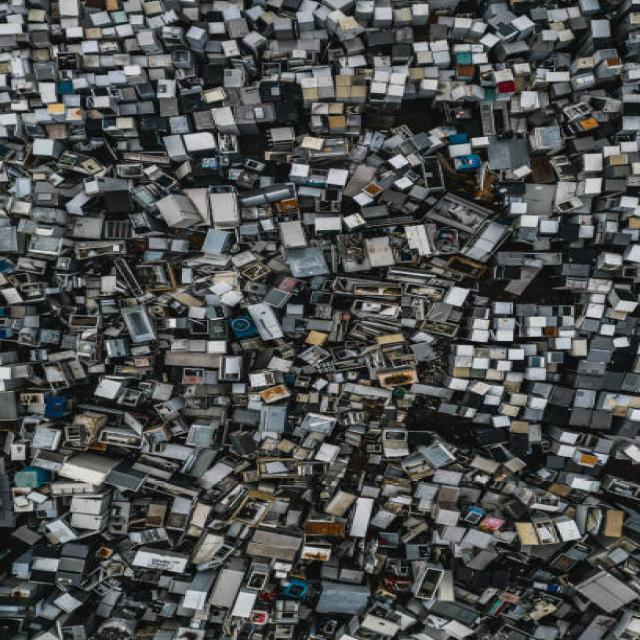metal: (39, 38, 573, 624)
